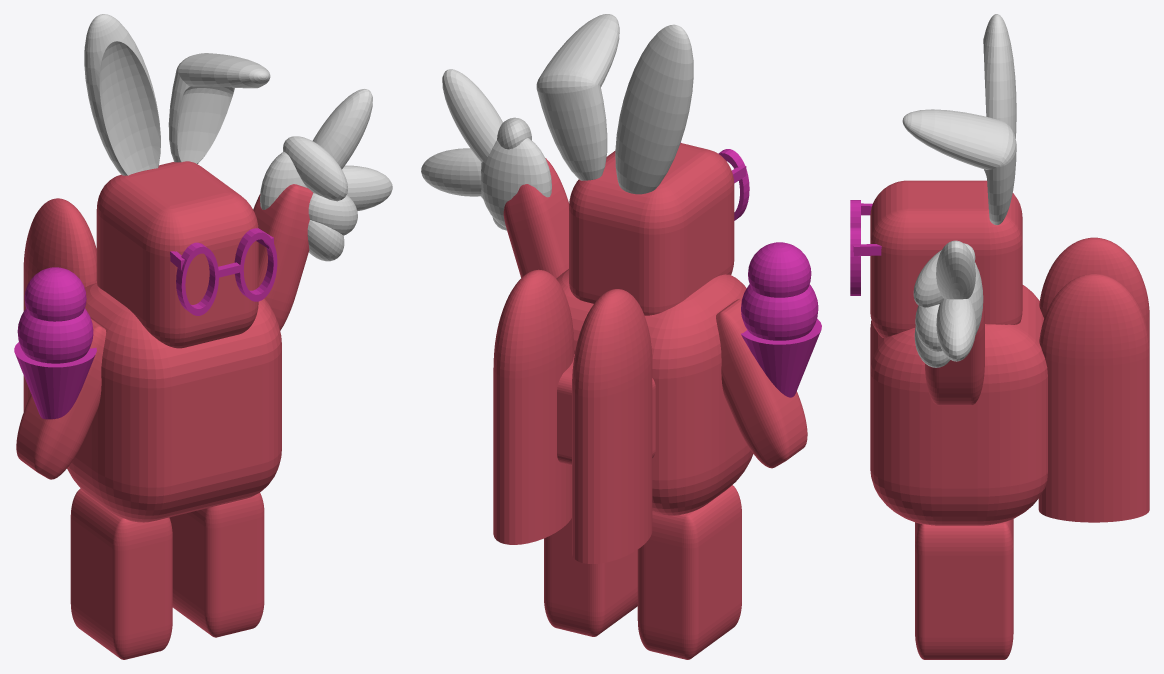
The model's file is astro3.glb.
The picture shows the model from 3 angles, left to right: view 1: azimuth 30°, elevation 25°; view 2: azimuth 150°, elevation 25°; view 3: azimuth 270°, elevation 25°; orthographic projection. The views are drawn at different scales.
Parts seen in each view (by area): view 1: Mesh_Mesh_head_geo.001_lambert2SG.001; view 2: Mesh_Mesh_head_geo.001_lambert2SG.001; view 3: Mesh_Mesh_head_geo.001_lambert2SG.001.
Part boxes in pixels (left/top/right/bottom): Mesh_Mesh_head_geo.001_lambert2SG.001: left=14, top=14, right=392, bottom=659; Mesh_Mesh_head_geo.001_lambert2SG.001: left=421, top=14, right=821, bottom=659; Mesh_Mesh_head_geo.001_lambert2SG.001: left=850, top=14, right=1149, bottom=659.
Size of the model in its own units: 0.0633 by 0.0981 by 0.045.
